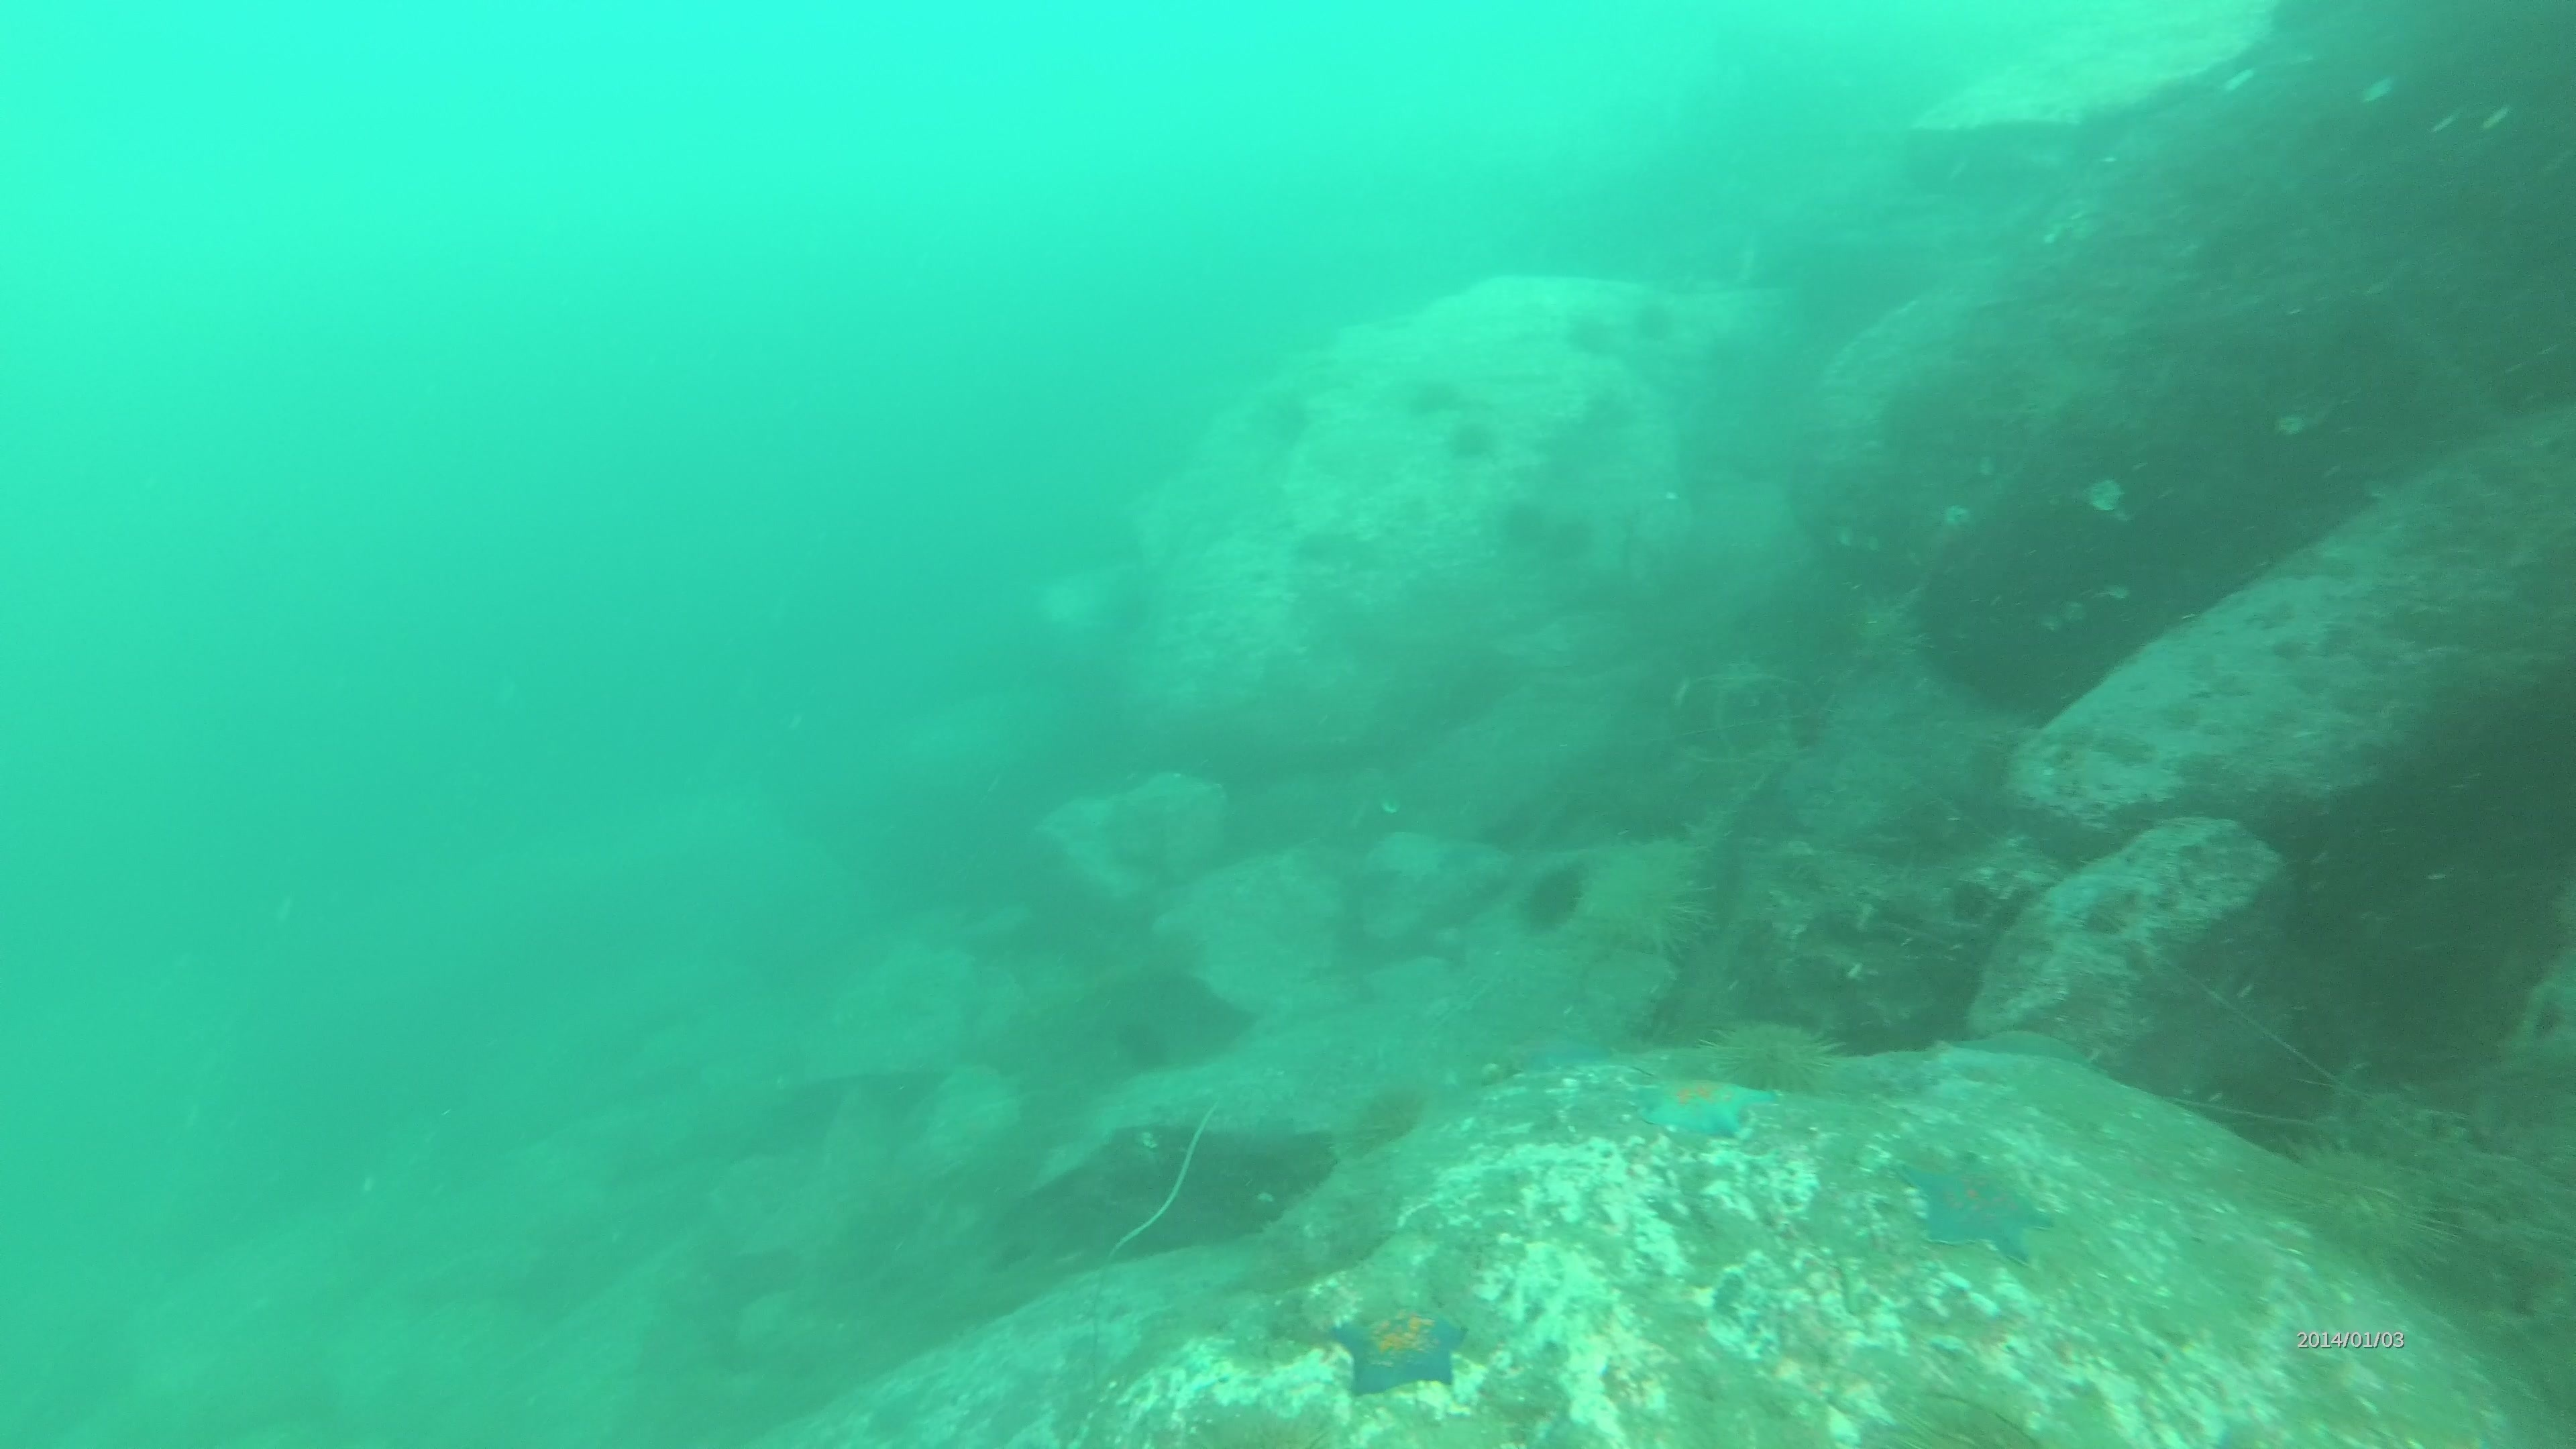echinus: (2272, 1132, 2452, 1277), (1575, 830, 1720, 968), (1707, 1012, 1849, 1102), (1511, 856, 1594, 939), (1435, 421, 1499, 464), (1414, 380, 1472, 423), (1635, 303, 1686, 349), (1568, 311, 1610, 356), (1553, 527, 1601, 566), (1507, 502, 1548, 545)
starfish: (1893, 1138, 2058, 1267), (1327, 1286, 1476, 1403), (1626, 1065, 1776, 1150)
